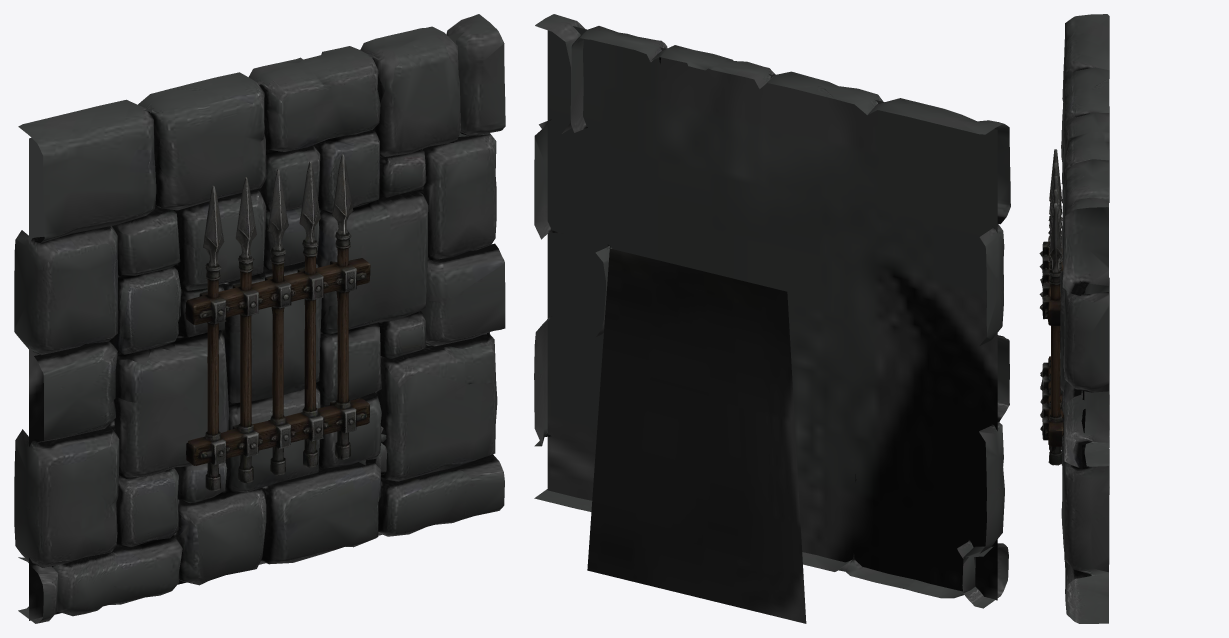
The model's file is Wall_Pikes_noFrame.fbx.
3 views of the same model, side by side, from view 1: azimuth 30°, elevation 25°; view 2: azimuth 150°, elevation 25°; view 3: azimuth 270°, elevation 25° (orthographic). The views are drawn at different scales.
Parts seen in each view (by area): view 1: Wall_Pikes; view 2: Wall_Pikes; view 3: Wall_Pikes.
Boxes of the visible parts, <box> form: Wall_Pikes: <box>14,14,505,623</box>; Wall_Pikes: <box>534,14,1010,623</box>; Wall_Pikes: <box>1039,14,1109,623</box>.
Size of the model in its own units: 303 by 302 by 115.
2 materials, 2 textured.
